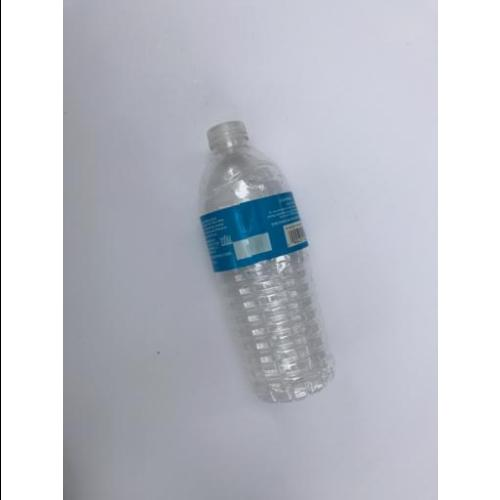plastic: (201, 121, 335, 405)
